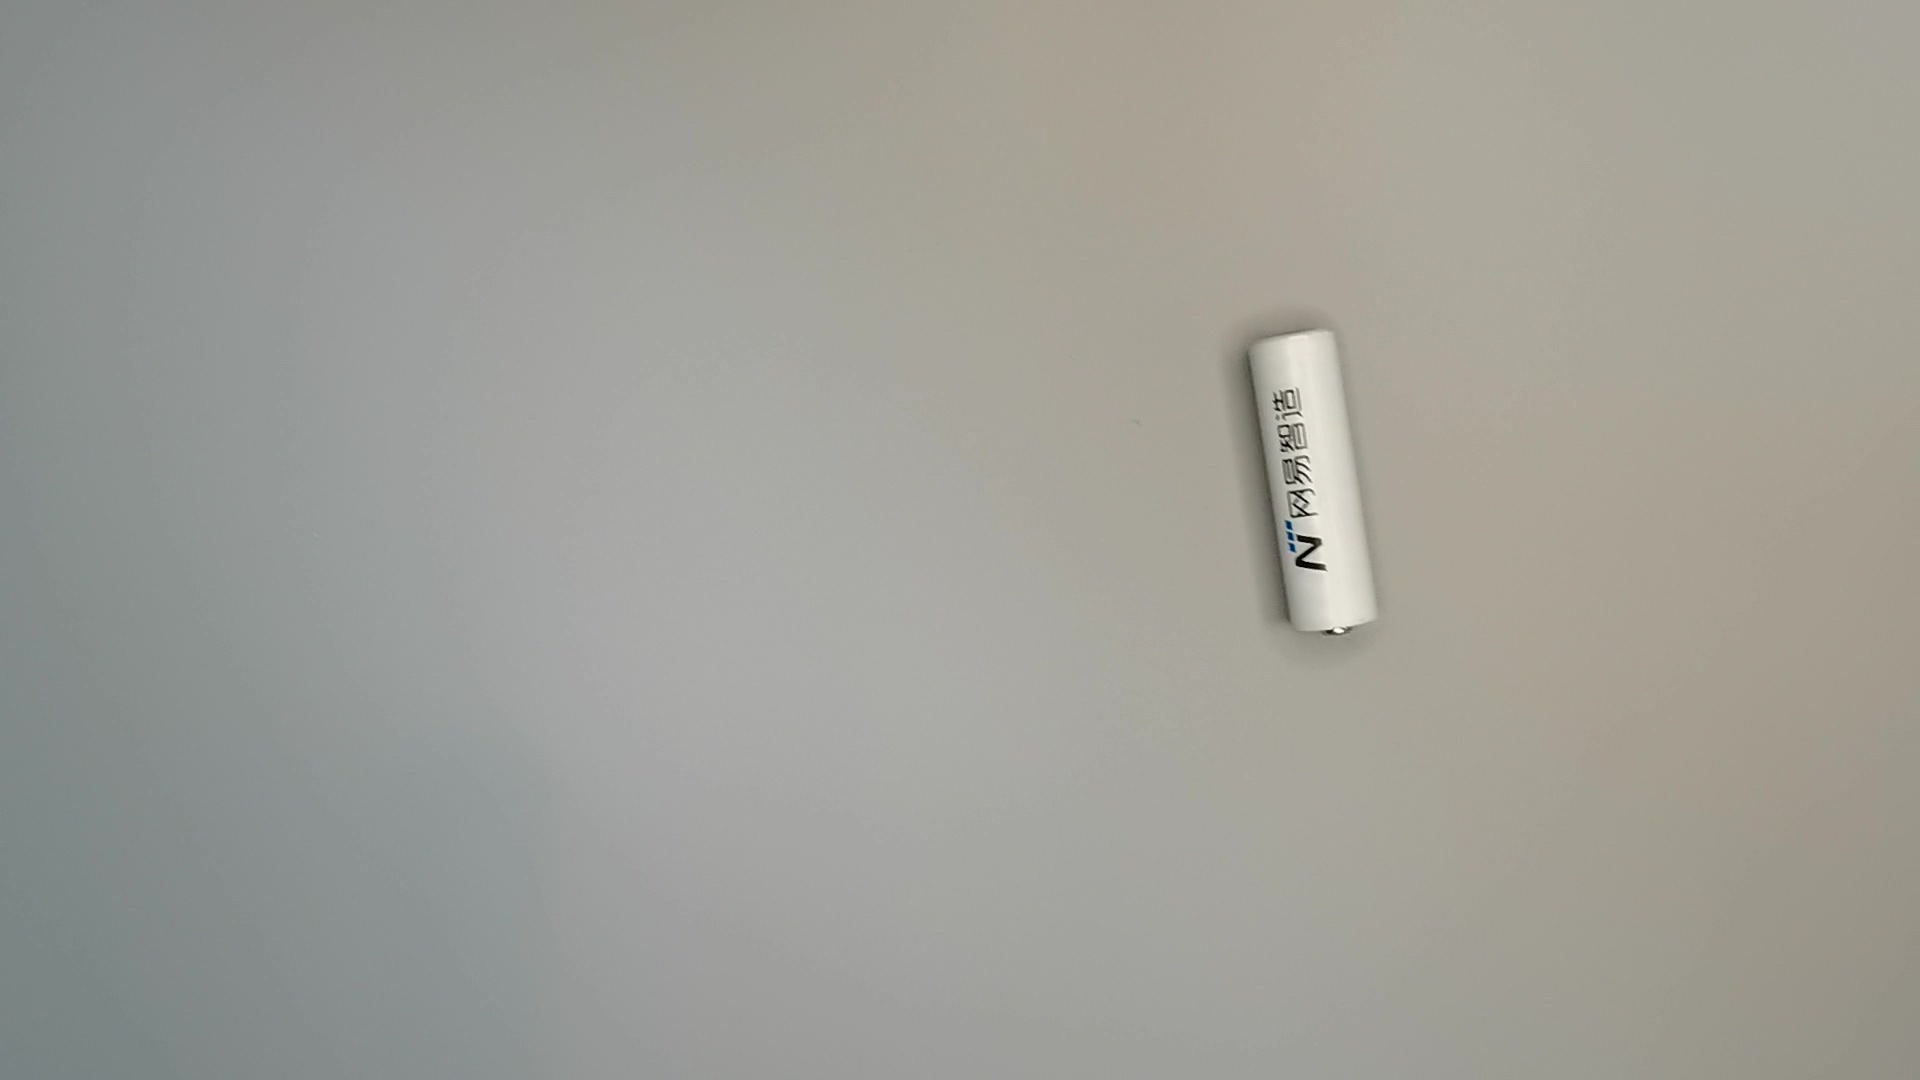battery: (1237, 319, 1385, 646)
